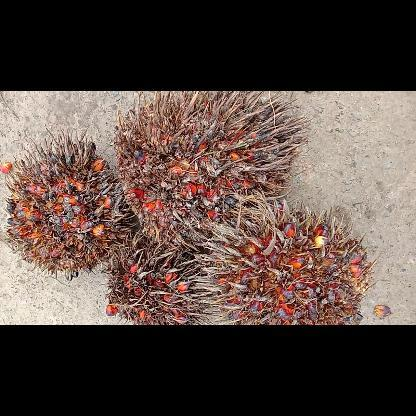Terlalu masak: (105, 90, 313, 252), (190, 192, 378, 324), (0, 122, 136, 282), (100, 226, 216, 324)
